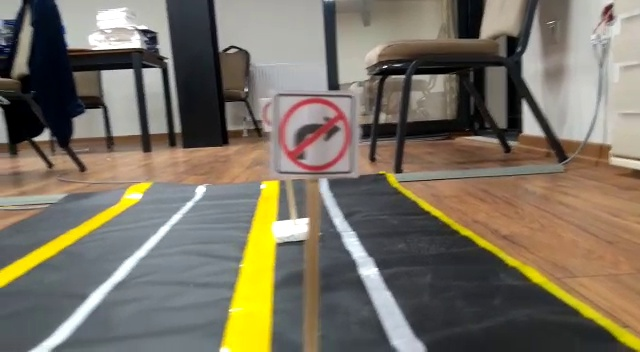saga_donulmez: (275, 94, 355, 176)
